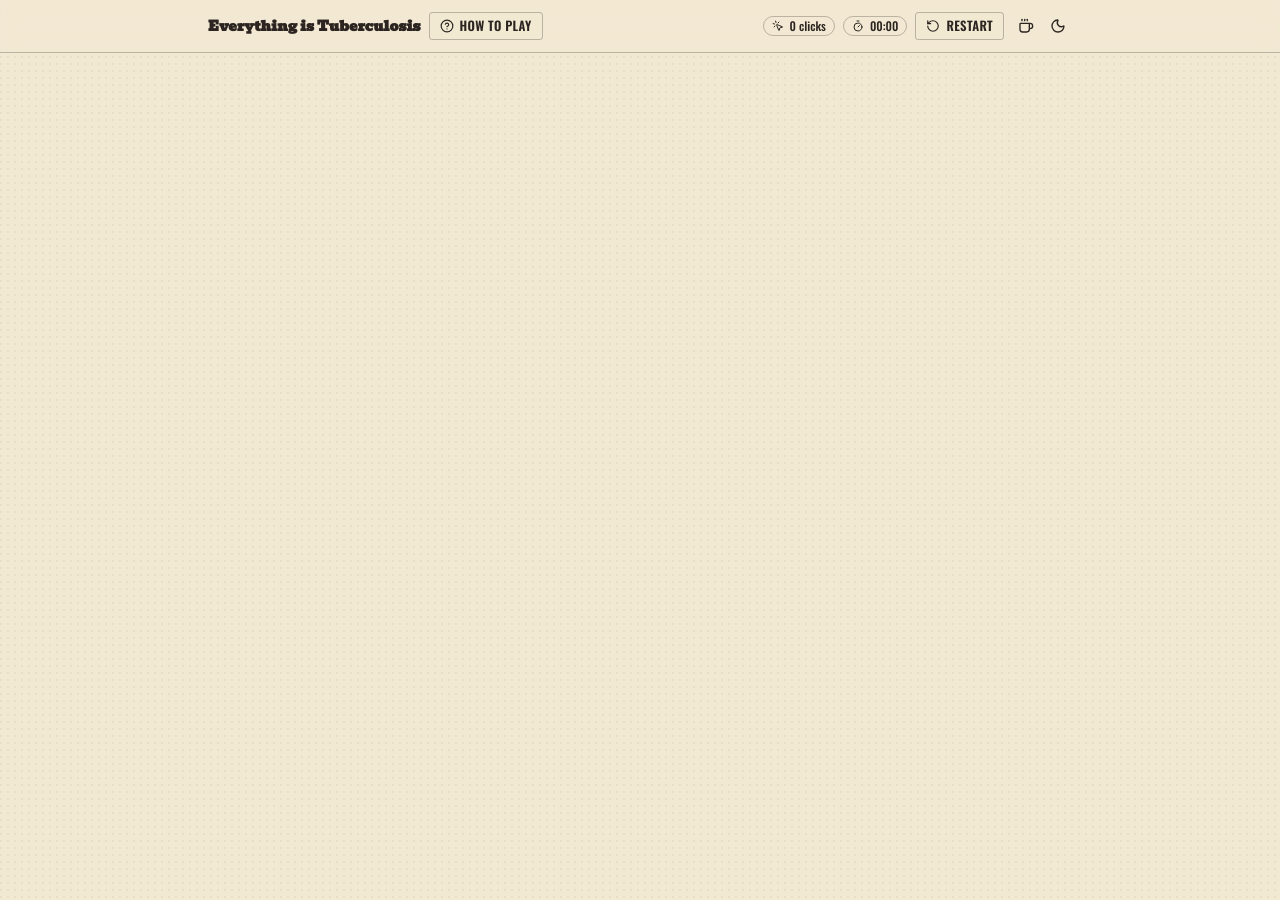
Test: GameHeader › navigating the wordmark while running asks for confirmation instead of leaving immediately
Click the link "Everything is Tuberculosis": (314, 26) [208,16,421,36]
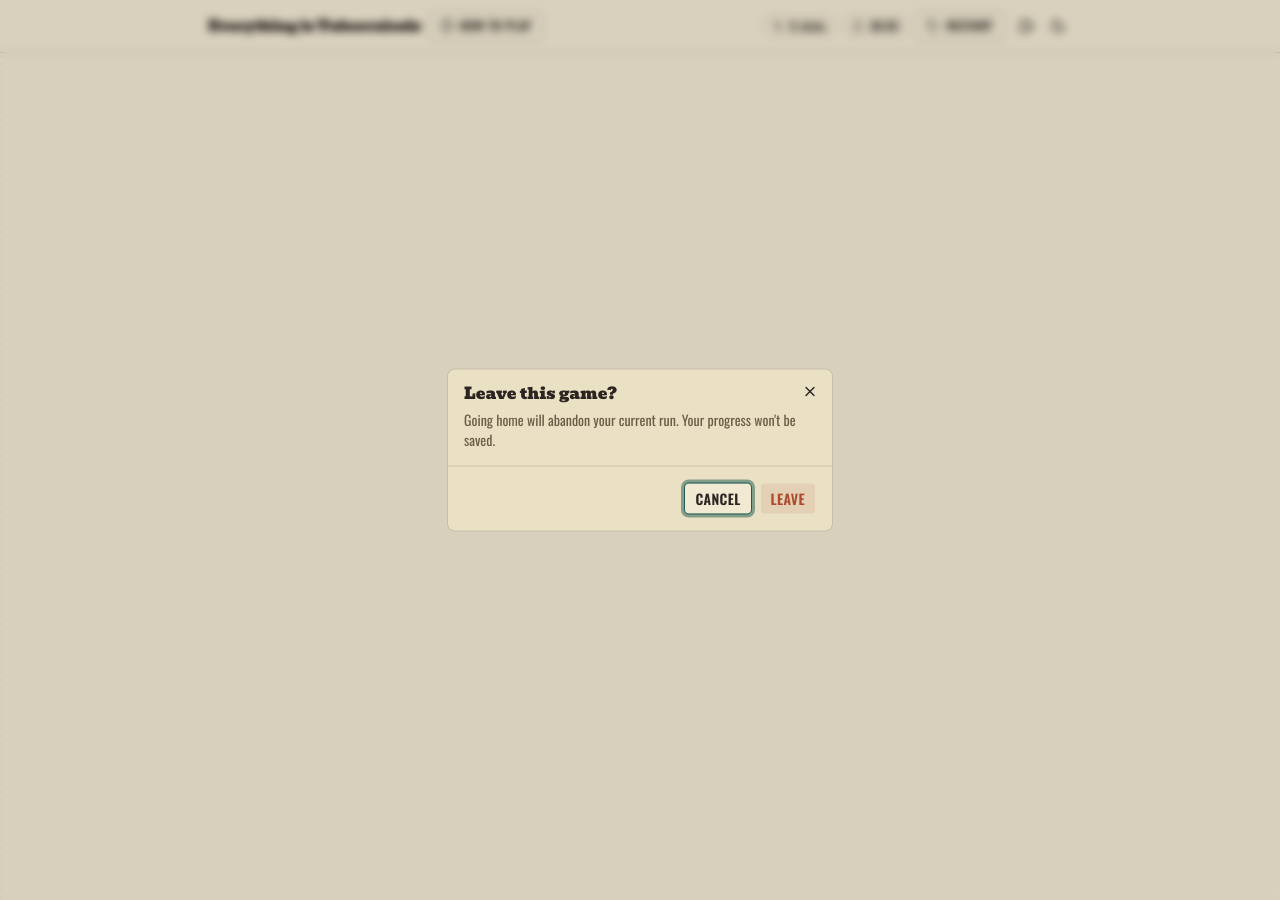
Expected: the heading "Leave this game?" is shown, [464,380,617,406]
